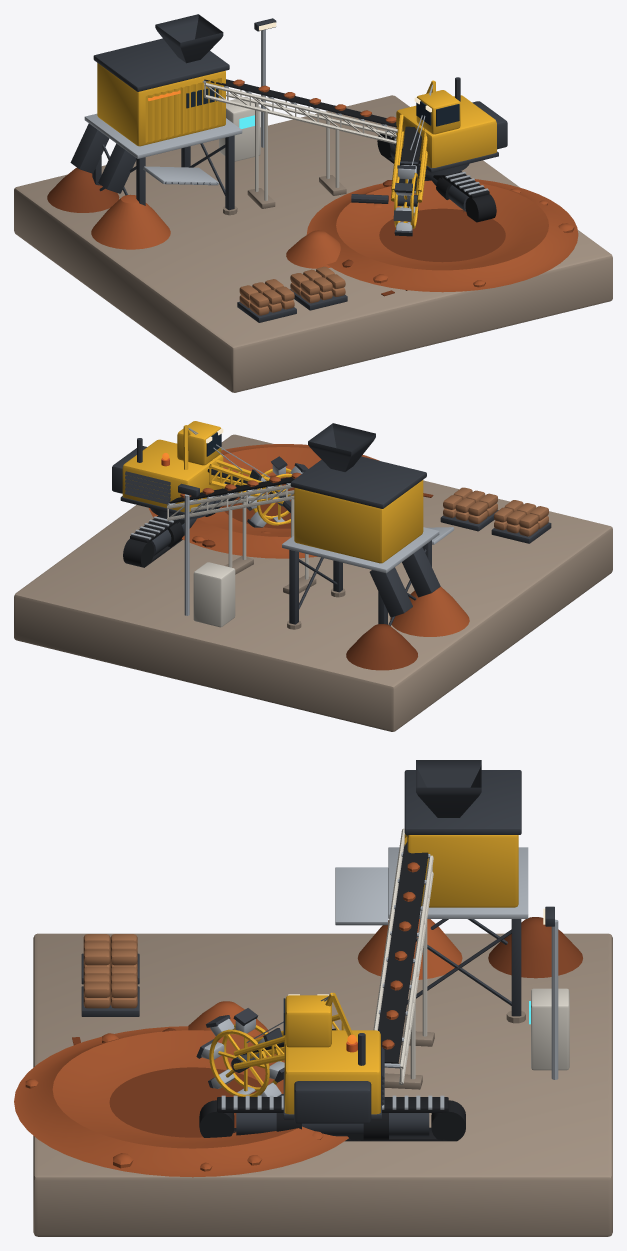
The model's file is regolith_excavator.glb.
3 renders of one model, top to bottom at view 1: azimuth 30°, elevation 25°; view 2: azimuth 150°, elevation 25°; view 3: azimuth 270°, elevation 25°, orthographic. The views are drawn at different scales.
Parts seen in each view (by area): view 1: regolith_excavator, spin_bucket_wheel.001; view 2: regolith_excavator, spin_bucket_wheel.001; view 3: regolith_excavator, spin_bucket_wheel.001.
Part boxes in pixels (left/top/right/bottom): regolith_excavator: left=14, top=14, right=612, bottom=392; spin_bucket_wheel.001: left=393, top=161, right=418, bottom=236; regolith_excavator: left=14, top=421, right=612, bottom=731; spin_bucket_wheel.001: left=239, top=456, right=308, bottom=527; regolith_excavator: left=14, top=760, right=612, bottom=1236; spin_bucket_wheel.001: left=196, top=1008, right=284, bottom=1096.
Size of the model in its own units: 6.1 by 3.35 by 6.2.
